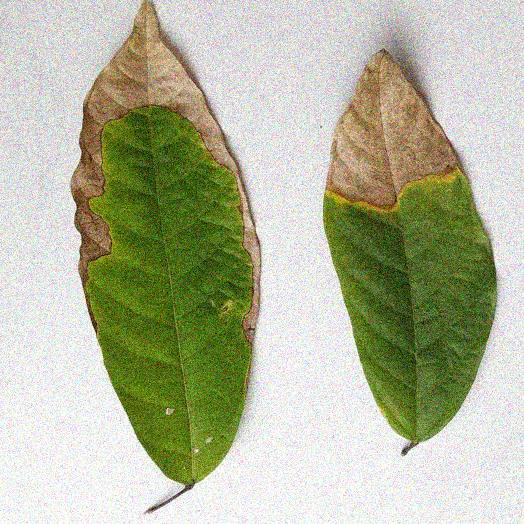Potassium: (72, 0, 259, 498), (324, 50, 496, 452)
